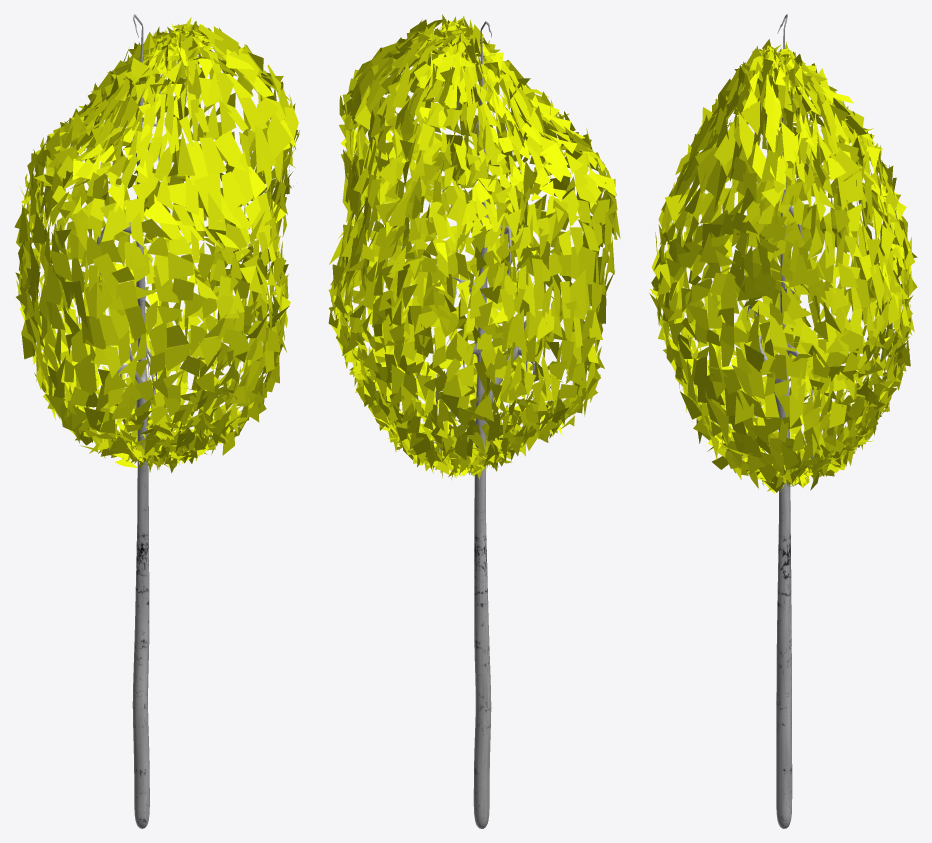
File: Leaves42.001.fbx
3 views of the same model, side by side, from view 1: azimuth 30°, elevation 25°; view 2: azimuth 150°, elevation 25°; view 3: azimuth 270°, elevation 25° (orthographic).
Parts seen in each view (by area): view 1: Leaves42.001; view 2: Leaves42.001; view 3: Leaves42.001.
Boxes of the visible parts, left/top/right/bottom form: Leaves42.001: left=14, top=14, right=299, bottom=828; Leaves42.001: left=328, top=14, right=620, bottom=828; Leaves42.001: left=649, top=14, right=917, bottom=828.
Bounding box in the file's own units: 873 × 2612 × 783.
Materials: 2 (1 with a texture image).
